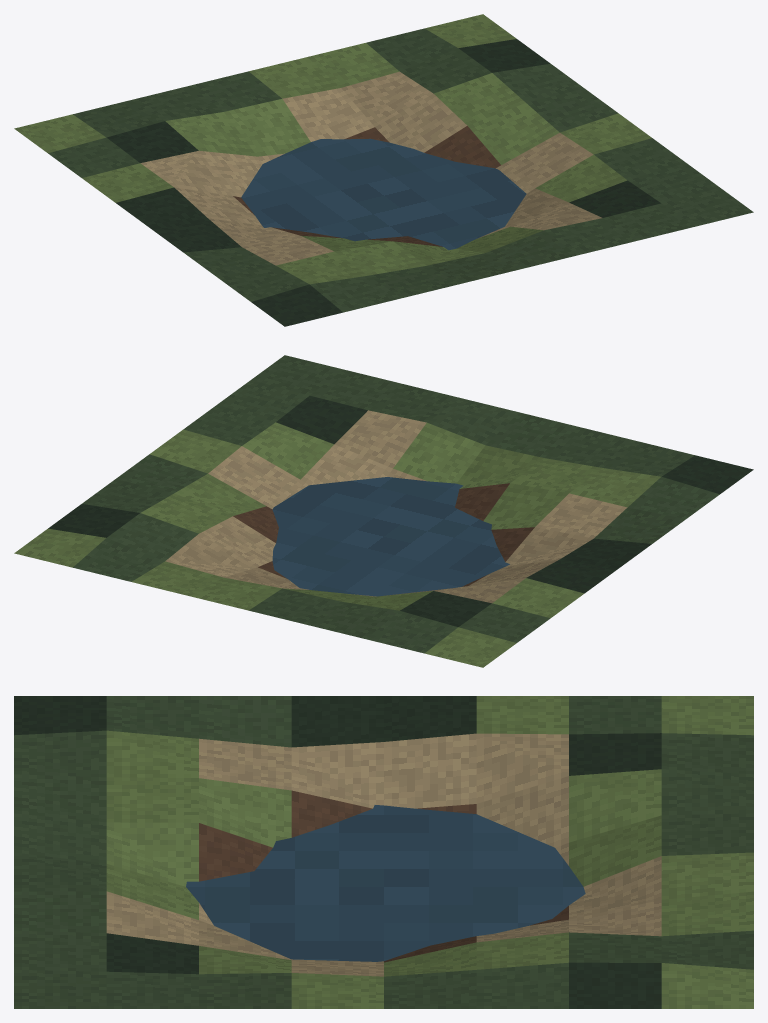
The model's file is terrain_pond.glb.
3 views of the same model, one above another, from view 1: azimuth 30°, elevation 25°; view 2: azimuth 150°, elevation 25°; view 3: azimuth 270°, elevation 25° (orthographic). The views are drawn at different scales.
Visible parts, largest first — view 1: terrain_pond; view 2: terrain_pond; view 3: terrain_pond.
Boxes of the visible parts, <box> form: terrain_pond: <box>14,14,753,326</box>; terrain_pond: <box>14,355,753,667</box>; terrain_pond: <box>14,696,753,1008</box>.
Size of the model in its own units: 8 by 0.9124 by 8.
Materials: 1 (1 with a texture image).
